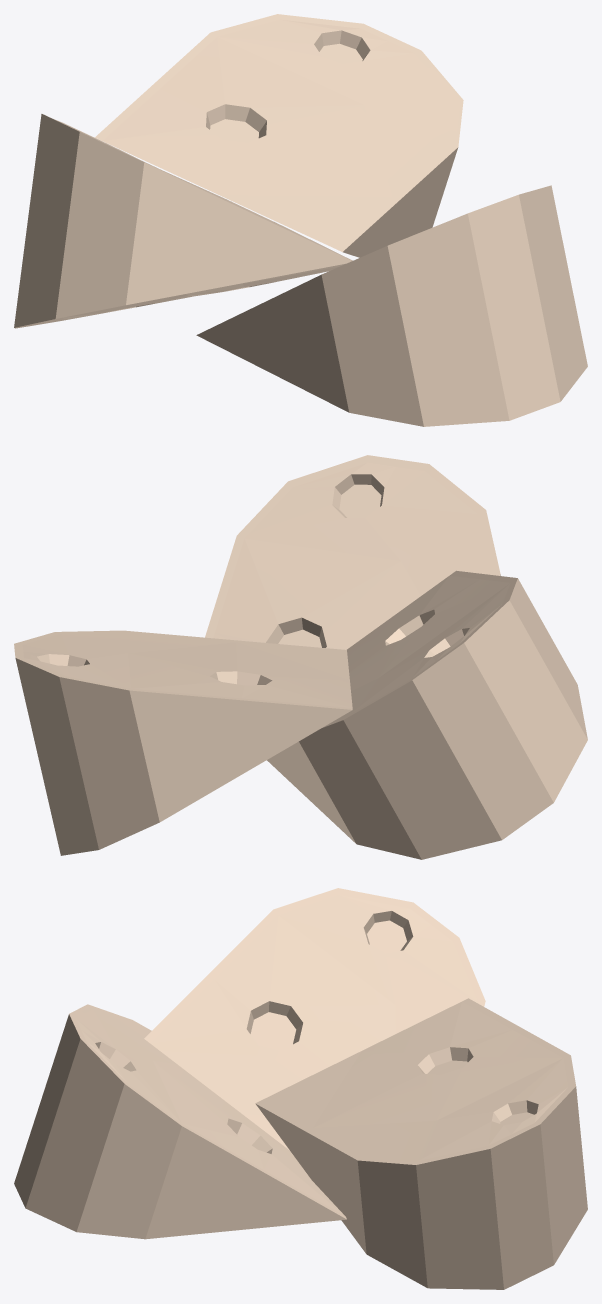
The model's file is CheeseChopped.fbx.
3 views of the same model, one above another, from view 1: azimuth 30°, elevation 25°; view 2: azimuth 150°, elevation 25°; view 3: azimuth 270°, elevation 25° (orthographic). The views are drawn at different scales.
Visible parts, largest first — view 1: SFT_Cheese_White_001; view 2: SFT_Cheese_White_001; view 3: SFT_Cheese_White_001.
Part boxes in pixels (x1=…): SFT_Cheese_White_001: x1=14, y1=14, x2=587, y2=426; SFT_Cheese_White_001: x1=14, y1=455, x2=587, y2=859; SFT_Cheese_White_001: x1=14, y1=888, x2=587, y2=1289.
Size of the model in its own units: 0.2465 by 0.1329 by 0.2867.
